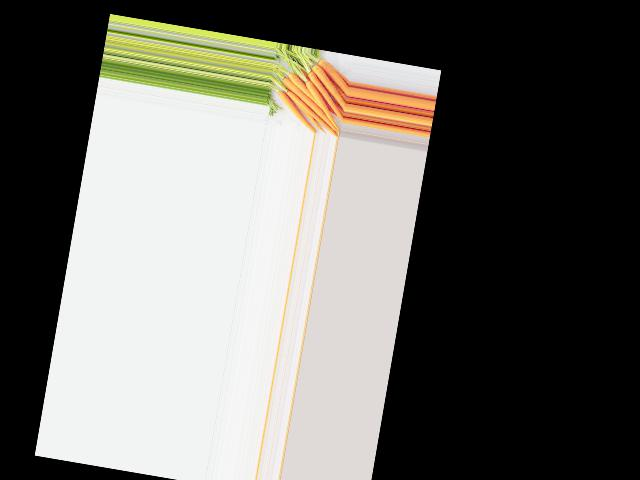carrot: (314, 58, 352, 90)
